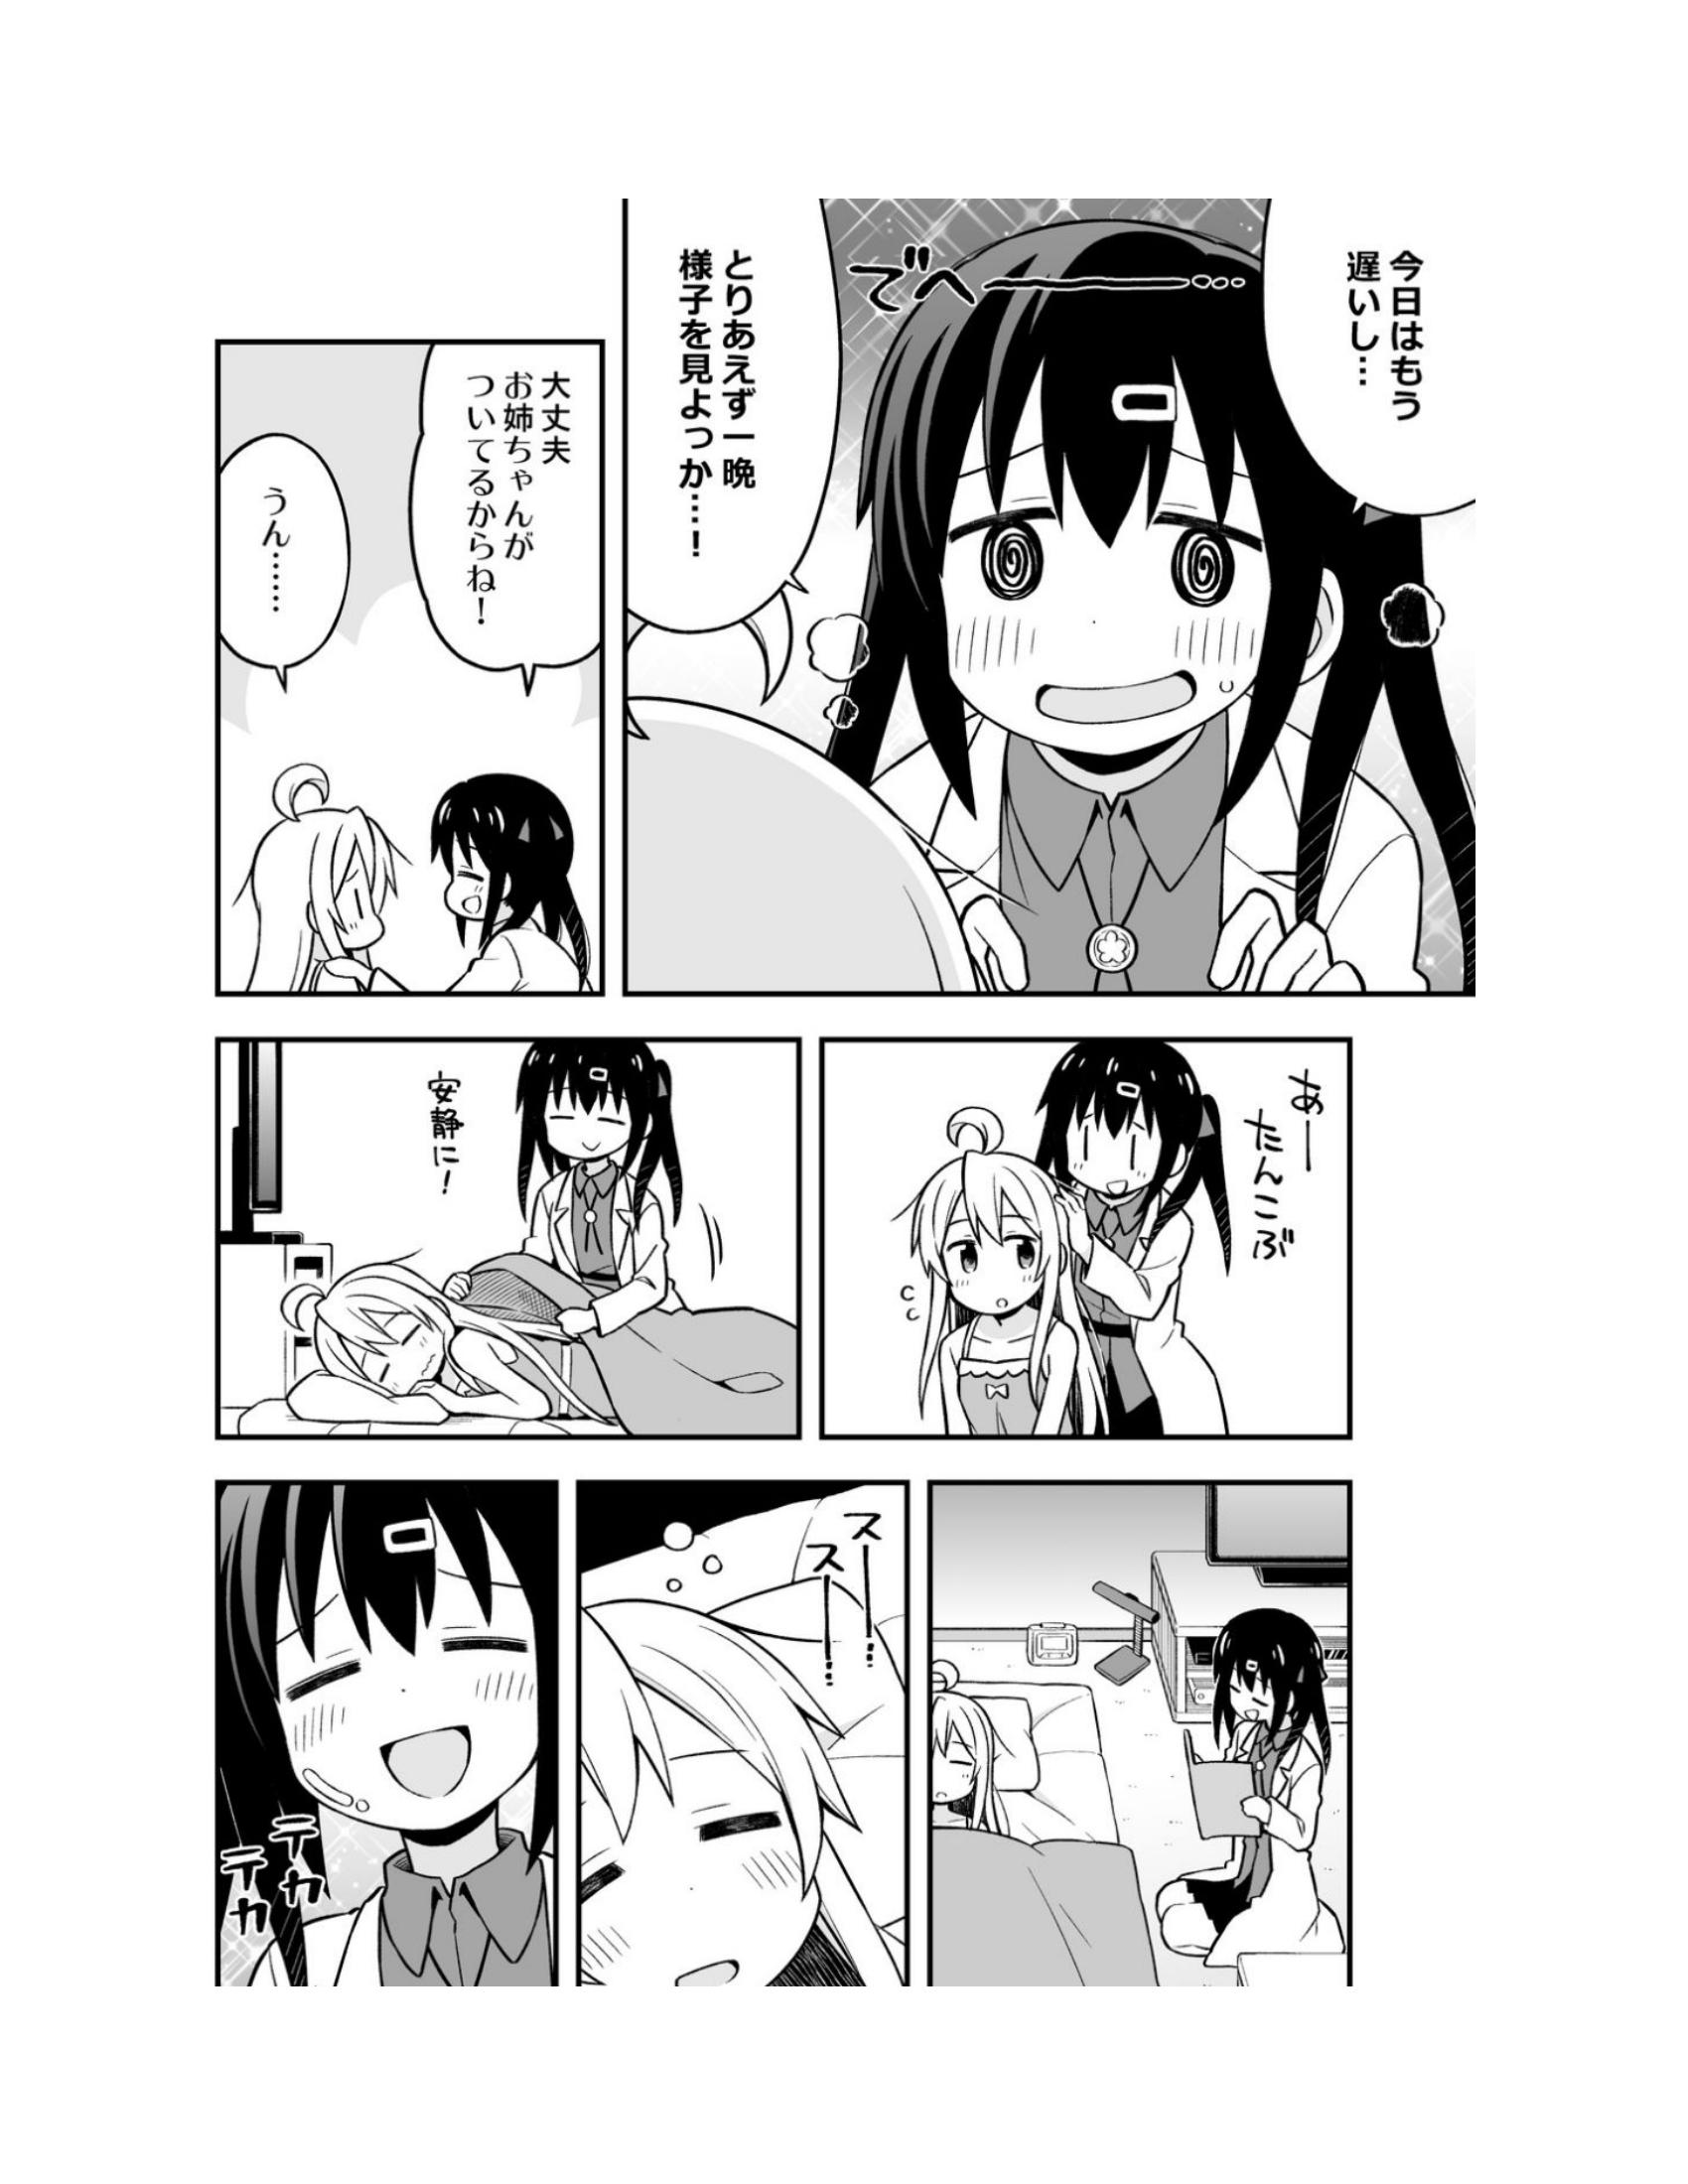a: (621, 199, 844, 643), (1280, 168, 1493, 535), (395, 326, 612, 670)
